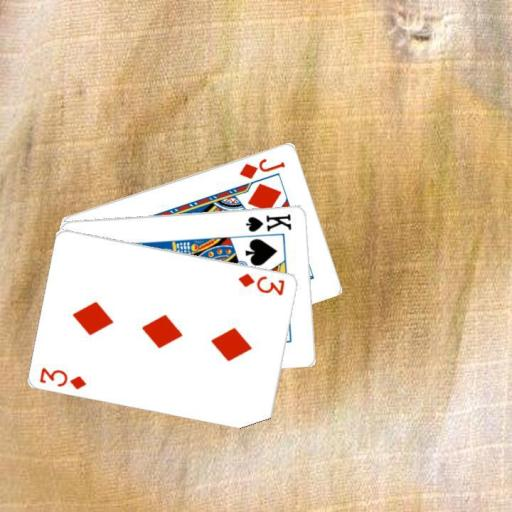3D: (235, 270, 287, 297), (37, 364, 88, 390)
JD: (236, 154, 287, 181)
KS: (243, 210, 294, 233)
